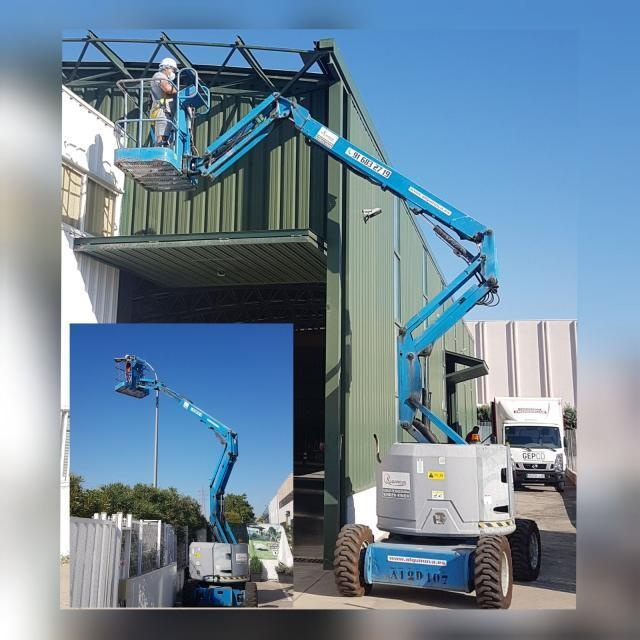Arnes_seguridad: (149, 81, 175, 121)
